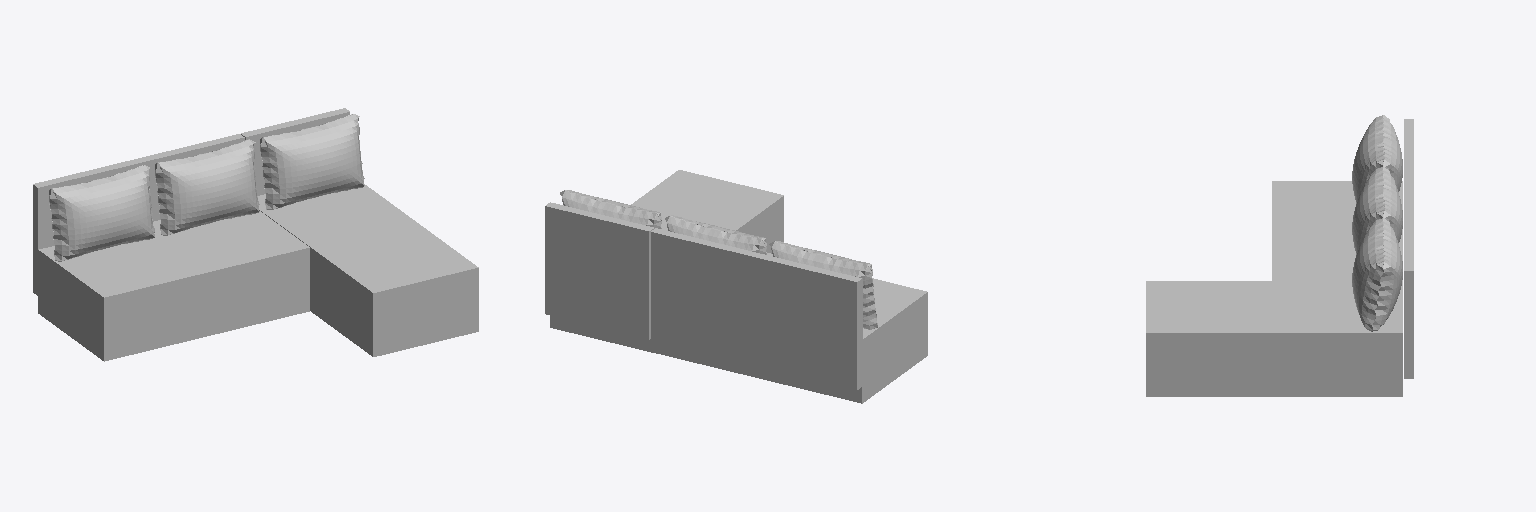
The model's file is Угловой диван-кровать Крит.obj.
3 views of the same model, side by side, from view 1: azimuth 30°, elevation 25°; view 2: azimuth 150°, elevation 25°; view 3: azimuth 270°, elevation 25° (orthographic).
Parts seen in each view (by area): view 1: Куб.003, Куб.004; view 2: Куб.003, Куб.004; view 3: Куб.003, Куб.004.
Part boxes in pixels (x1,y1,x2,y2): Куб.003: (33, 108, 478, 361); Куб.004: (49, 114, 364, 261); Куб.003: (545, 170, 927, 403); Куб.004: (560, 190, 877, 329); Куб.003: (1146, 119, 1413, 396); Куб.004: (1352, 115, 1402, 331).
Bounding box in the file's own units: 3.9 × 1.61 × 2.89.